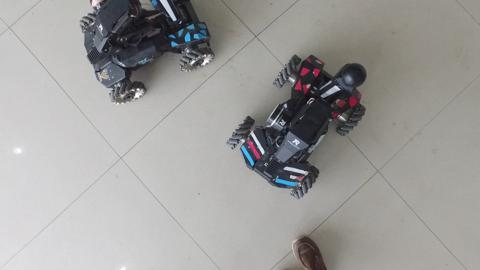chariot: (217, 42, 381, 210), (76, 1, 218, 104)
